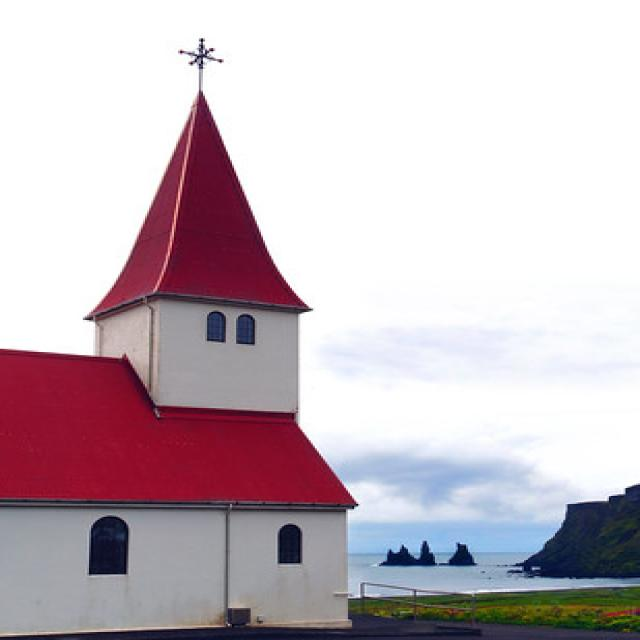building: (9, 94, 358, 640)
